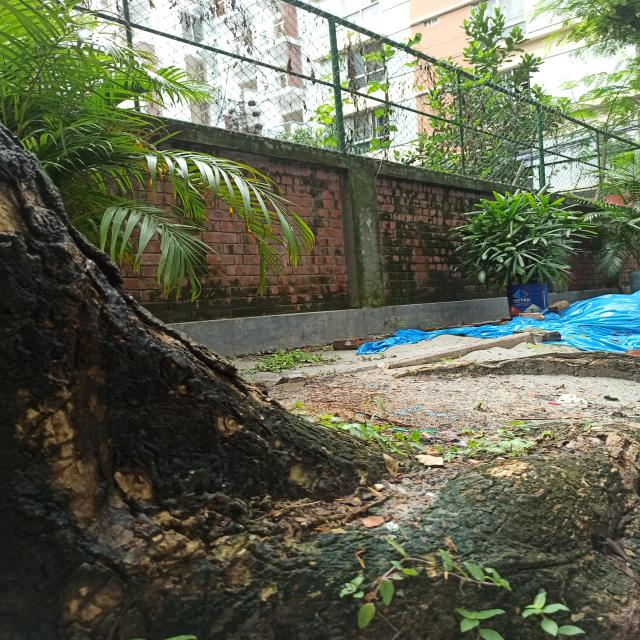artificial_container: (506, 282, 549, 318)
